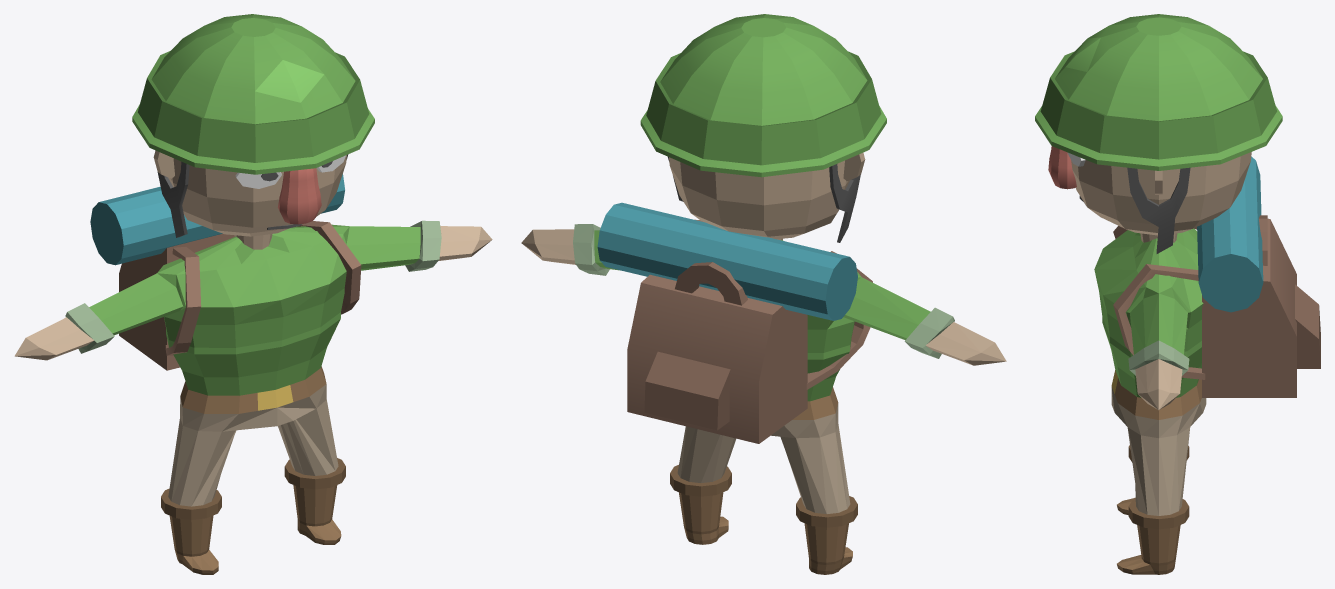
File: Heavy Gunner.fbx
The picture shows the model from 3 angles, left to right: view 1: azimuth 30°, elevation 25°; view 2: azimuth 150°, elevation 25°; view 3: azimuth 270°, elevation 25°; orthographic projection. The views are drawn at different scales.
Visible parts, largest first — view 1: polySurface2, pasted__pCylinder1, pSphere1, pasted__pCylinder3, pasted__pCube2, pCylinder2, polySurface3, polySurface4, pPipe1; view 2: pasted__pCylinder1, polySurface2, pasted__pCube2, pasted__pCylinder3, pSphere1, pasted__pCube3, pasted__pPipe1, pPipe1, polySurface3; view 3: pasted__pCylinder1, polySurface2, pasted__pCube2, pSphere1, pasted__pCylinder3, pPipe2, polySurface4, pasted__pCube3, pCylinder2.
Boxes of the visible parts, box(x1,y1,x2,y2) form: polySurface2: box(14, 220, 492, 574); pasted__pCylinder1: box(132, 14, 374, 174); pSphere1: box(168, 155, 346, 236); pasted__pCylinder3: box(90, 174, 344, 265); pasted__pCube2: box(119, 234, 234, 370); pCylinder2: box(277, 168, 321, 224); polySurface3: box(165, 247, 201, 355); polySurface4: box(297, 221, 361, 314); pPipe1: box(157, 161, 189, 237); pasted__pCylinder1: box(640, 14, 886, 177); polySurface2: box(521, 224, 1006, 574); pasted__pCube2: box(627, 274, 807, 443); pasted__pCylinder3: box(597, 202, 857, 320); pSphere1: box(669, 157, 850, 239); pasted__pCube3: box(644, 351, 730, 430); pasted__pPipe1: box(675, 262, 747, 305); pPipe1: box(829, 164, 860, 242); polySurface3: box(806, 251, 872, 389); pasted__pCylinder1: box(1035, 14, 1282, 170); polySurface2: box(1094, 228, 1206, 574); pasted__pCube2: box(1202, 218, 1296, 397); pSphere1: box(1071, 152, 1251, 235); pasted__pCylinder3: box(1197, 156, 1263, 312); pPipe2: box(1127, 167, 1190, 253); polySurface4: box(1113, 264, 1205, 379); pasted__pCube3: box(1295, 284, 1320, 368); pCylinder2: box(1048, 146, 1076, 189).
Size of the model in its own units: 5.75 by 5.95 by 3.
